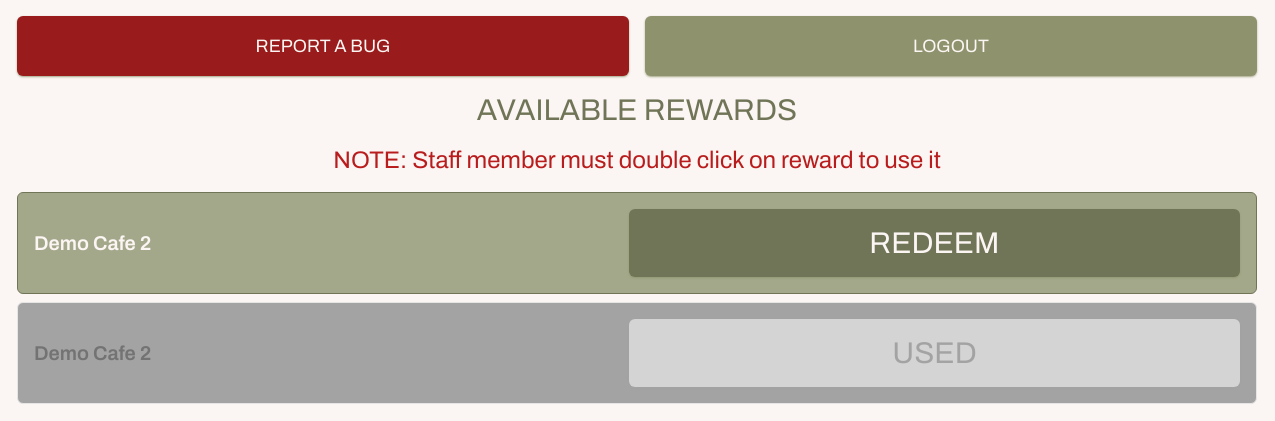
Test: UserDashboard › should render updates after button press
Double-click the button "REDEEM" at (934, 243), box [629, 209, 1240, 277]
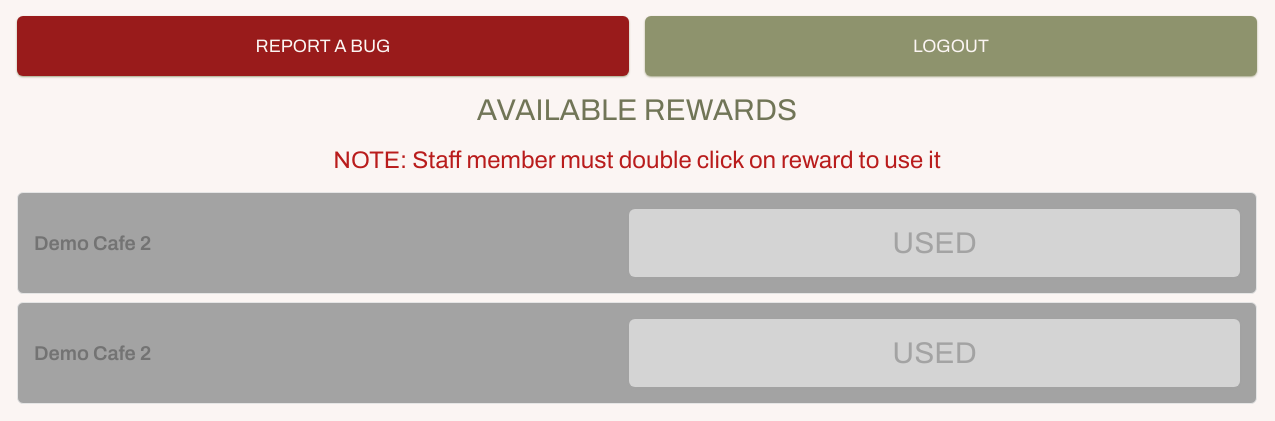
Now the 1st button "redeem" is disabled, box [629, 209, 1240, 277]
